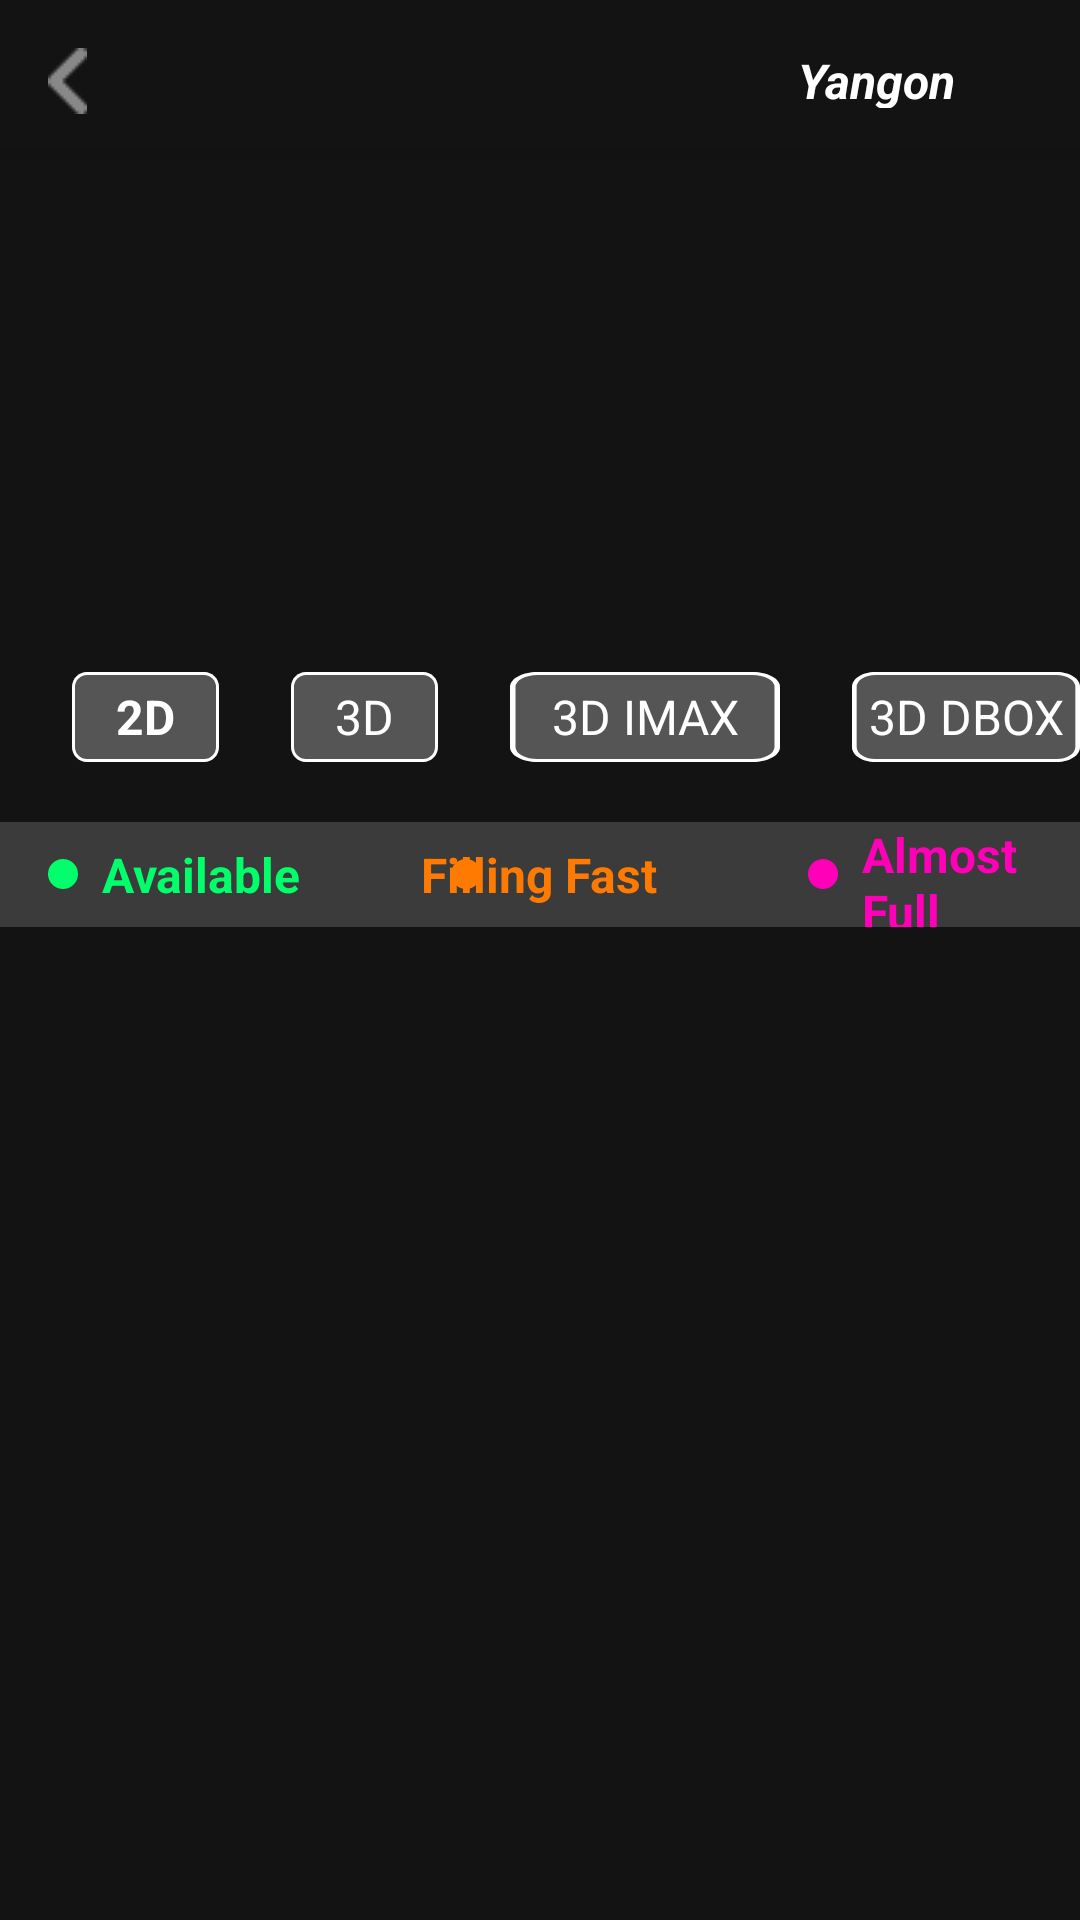

Point at icon controls on the screen. Image size 1080w x 1920h, points as (x,y).
backbtn: (67,81)
